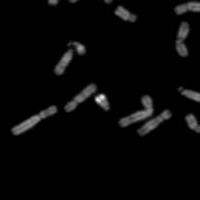chromosome: (11, 103, 58, 136), (55, 40, 85, 77), (120, 96, 153, 126), (137, 110, 172, 135), (66, 83, 96, 110), (177, 83, 200, 103), (177, 23, 189, 57), (174, 0, 200, 15), (116, 6, 137, 21), (185, 114, 200, 134), (94, 94, 109, 112), (95, 0, 112, 6), (68, 0, 95, 3), (46, 0, 62, 5)
